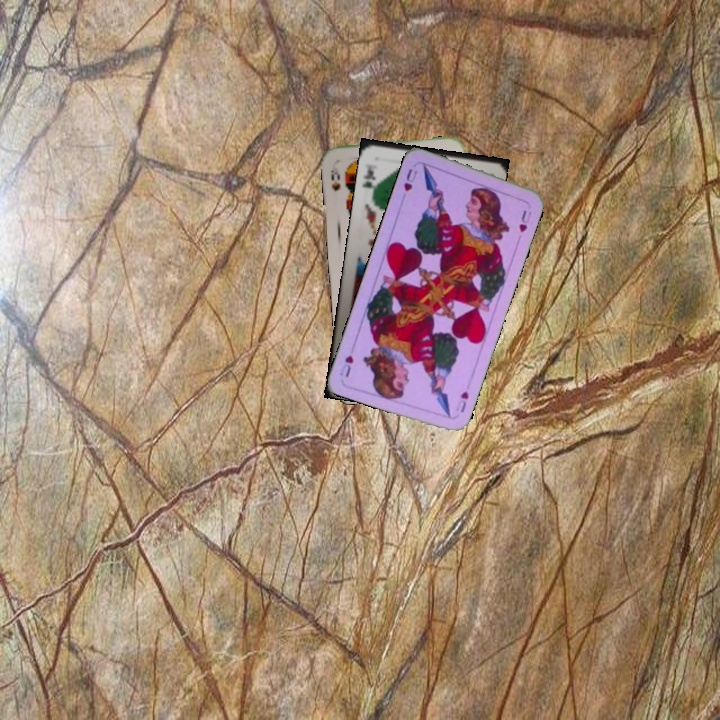GK: (359, 163, 378, 197)
HU: (399, 164, 420, 194), (452, 387, 471, 415)
S8: (327, 159, 343, 193)
